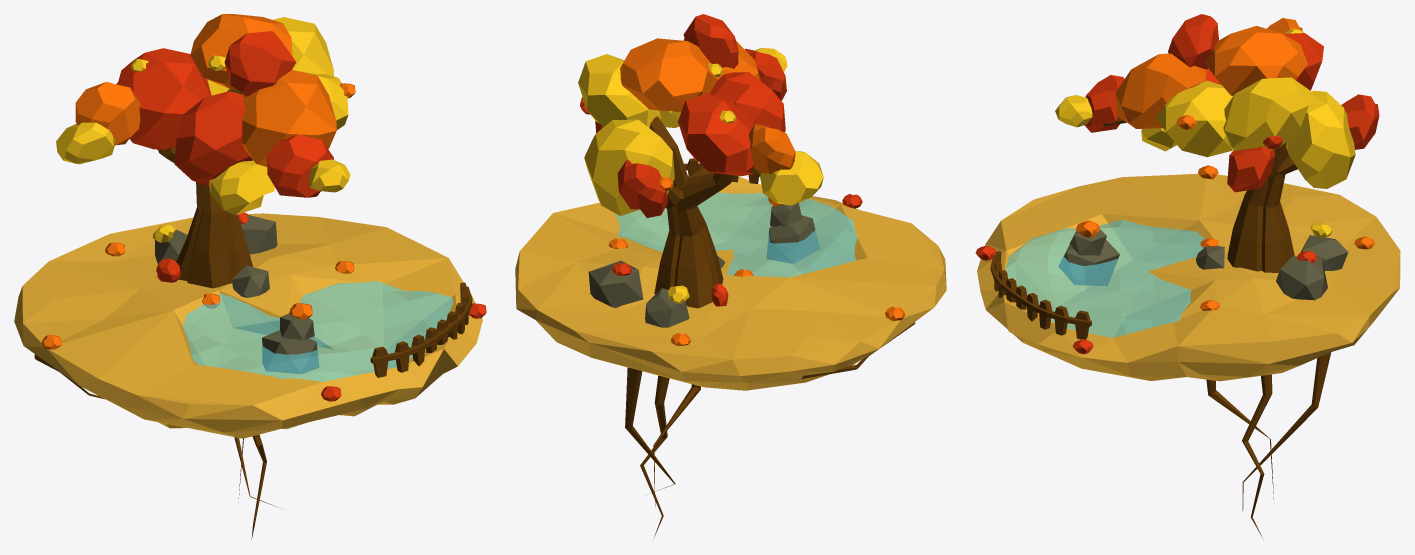
File: island-fall.glb
3 views of the same model, side by side, from view 1: azimuth 30°, elevation 25°; view 2: azimuth 150°, elevation 25°; view 3: azimuth 270°, elevation 25° (orthographic). The views are drawn at different scales.
Visible parts, largest first — view 1: Island, pond, Icosphere.006, Icosphere.004, three.trunk, Icosphere.002, Icosphere.007, Icosphere.001, Icosphere.012, Icosphere.009, Icosphere.011, Icosphere.030 (+11 smaller); view 2: Island, pond, three.trunk, Icosphere.001, Icosphere.003, Icosphere.004, Icosphere.005, Icosphere.002, roots, Icosphere.008, Icosphere.010, Icosphere.007 (+7 smaller); view 3: Island, pond, three.trunk, Icosphere.005, Icosphere.003, Icosphere.001, Icosphere.006, Icosphere, roots, Icosphere.007, Icosphere.030, Icosphere.021 (+11 smaller).
Part boxes in pixels (box(x1,y1,x2,y2)): Island: box(14, 213, 482, 438); pond: box(183, 281, 452, 381); Icosphere.006: box(242, 70, 336, 166); Icosphere.004: box(116, 48, 211, 149); three.trunk: box(158, 89, 252, 288); Icosphere.002: box(174, 91, 253, 186); Icosphere.007: box(224, 31, 296, 96); Icosphere.001: box(190, 14, 292, 89); Icosphere.012: box(267, 134, 333, 197); Icosphere.009: box(75, 81, 140, 145); Icosphere.011: box(209, 160, 274, 215); Icosphere.030: box(262, 330, 318, 373); Island: box(515, 176, 946, 390); pond: box(615, 192, 857, 277); three.trunk: box(649, 116, 760, 308); Icosphere.001: box(620, 38, 717, 111); Icosphere.003: box(584, 119, 674, 215); Icosphere.004: box(678, 93, 754, 176); Icosphere.005: box(578, 54, 662, 127); Icosphere.002: box(710, 72, 785, 132); roots: box(625, 367, 700, 537); Icosphere.008: box(760, 151, 823, 205); Icosphere.010: box(617, 160, 667, 217); Icosphere.007: box(683, 14, 738, 68); Island: box(977, 174, 1400, 381); pond: box(1006, 219, 1204, 337); three.trunk: box(1103, 117, 1297, 272); Icosphere.005: box(1223, 77, 1310, 150); Icosphere.003: box(1286, 90, 1355, 188); Icosphere.001: box(1205, 26, 1307, 95); Icosphere.006: box(1115, 53, 1206, 128); Icosphere: box(1156, 80, 1233, 157); roots: box(1206, 352, 1331, 537); Icosphere.007: box(1168, 14, 1218, 69); Icosphere.030: box(1058, 239, 1119, 285); Icosphere.021: box(1276, 256, 1327, 300).
Size of the model in its own units: 2.91 by 3.83 by 2.89.
